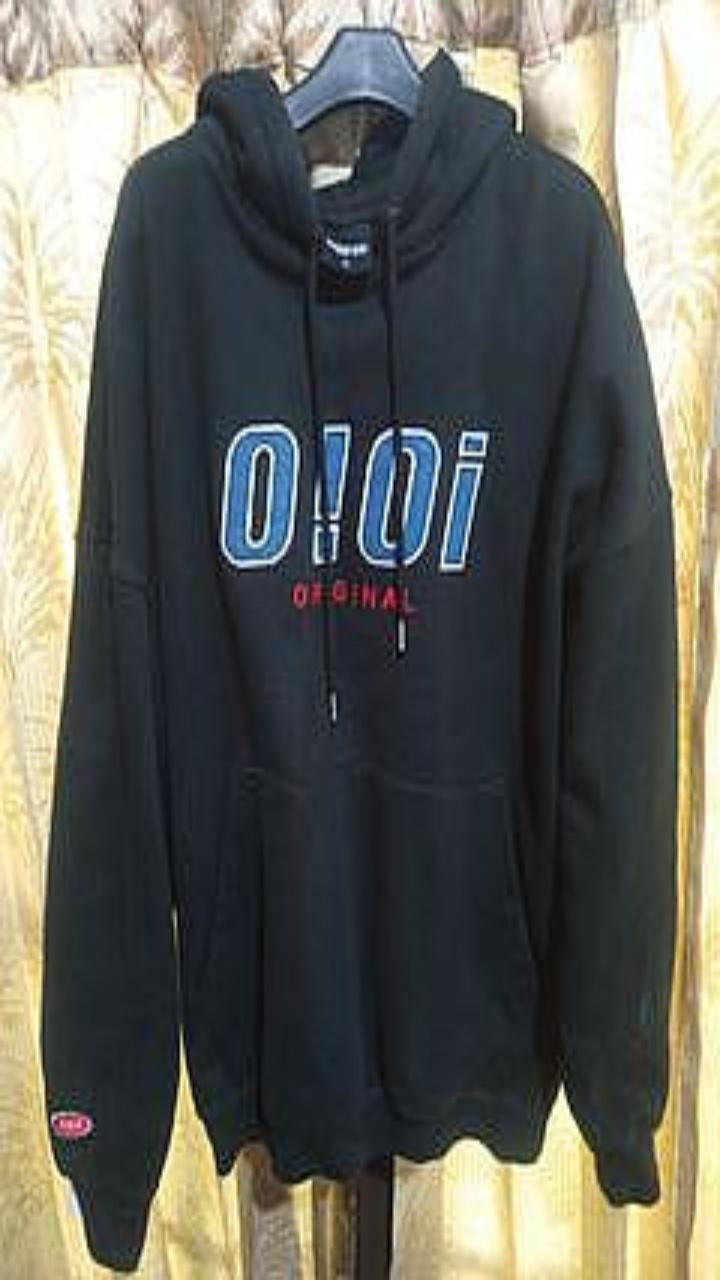Hoodie: (42, 49, 676, 1269)
